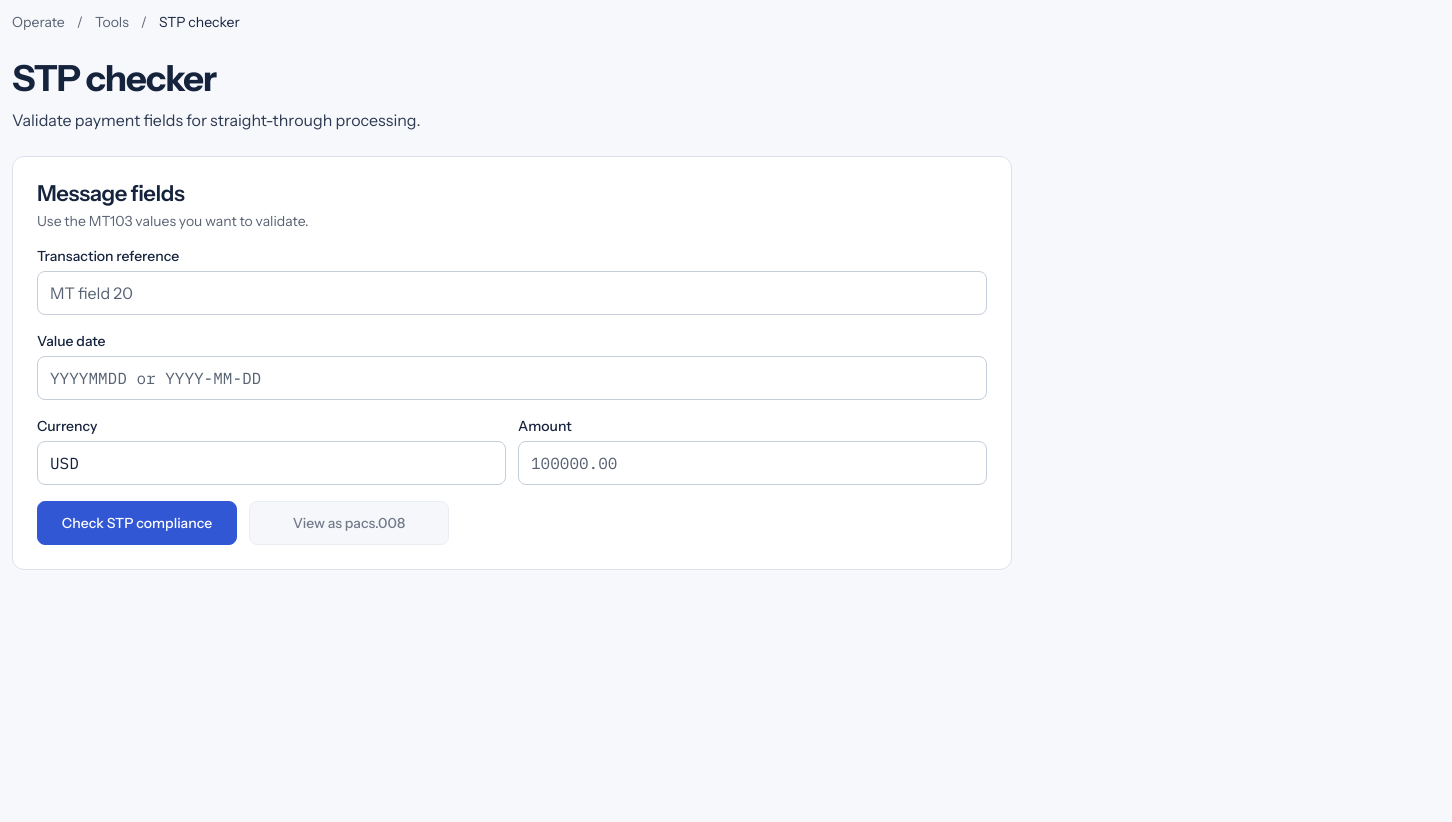
Scenario: StpPage › shows the pacs.008 view when toggled
This screenshot has width=1452, height=822.
Type "REF1" into the field labelled "Transaction reference". click: [512, 294]
box: [37,272,987,316]
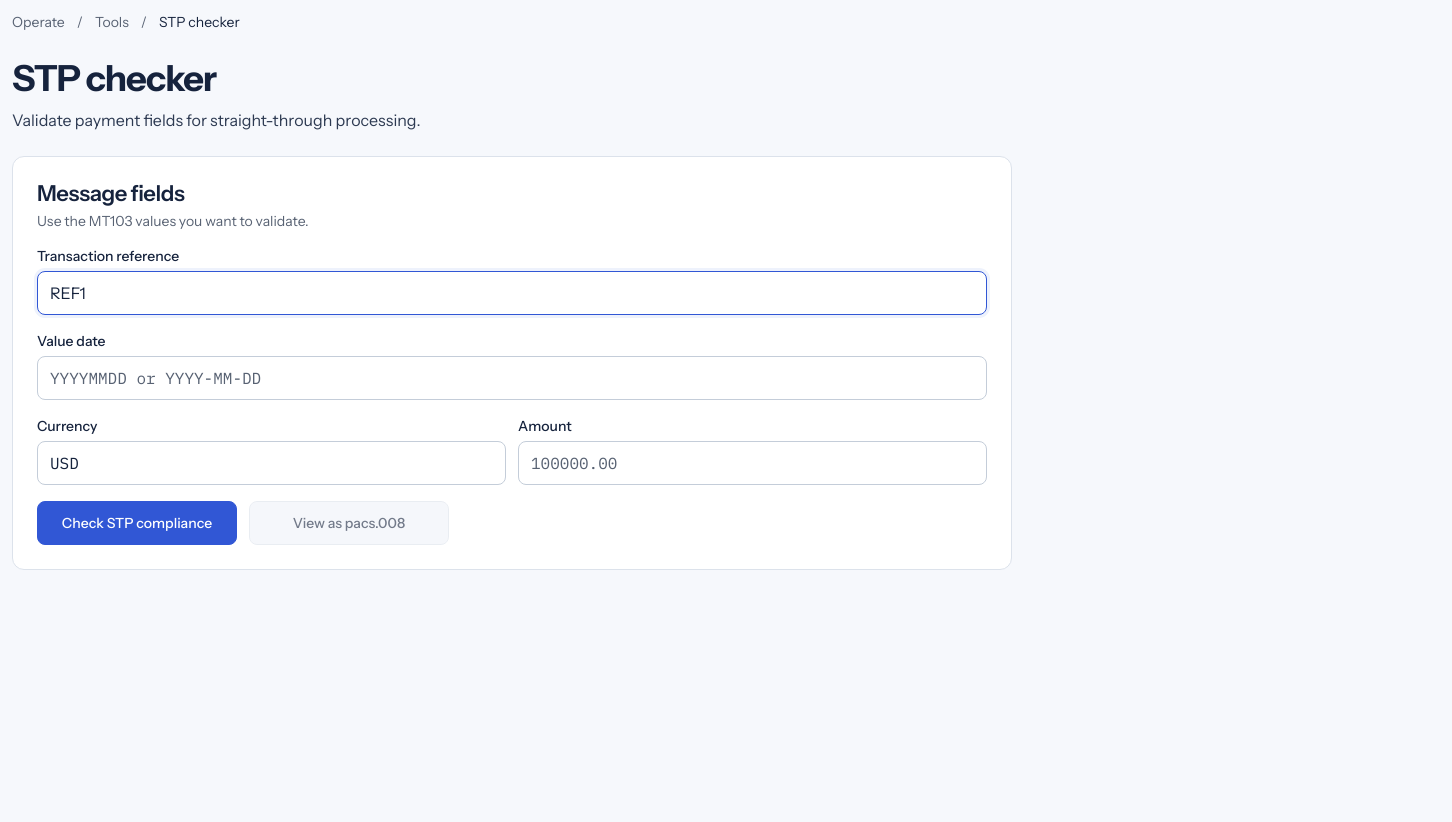
Type "2026-07-20" into the field labelled "Value date". click: [512, 378]
box: [37,356,987,400]
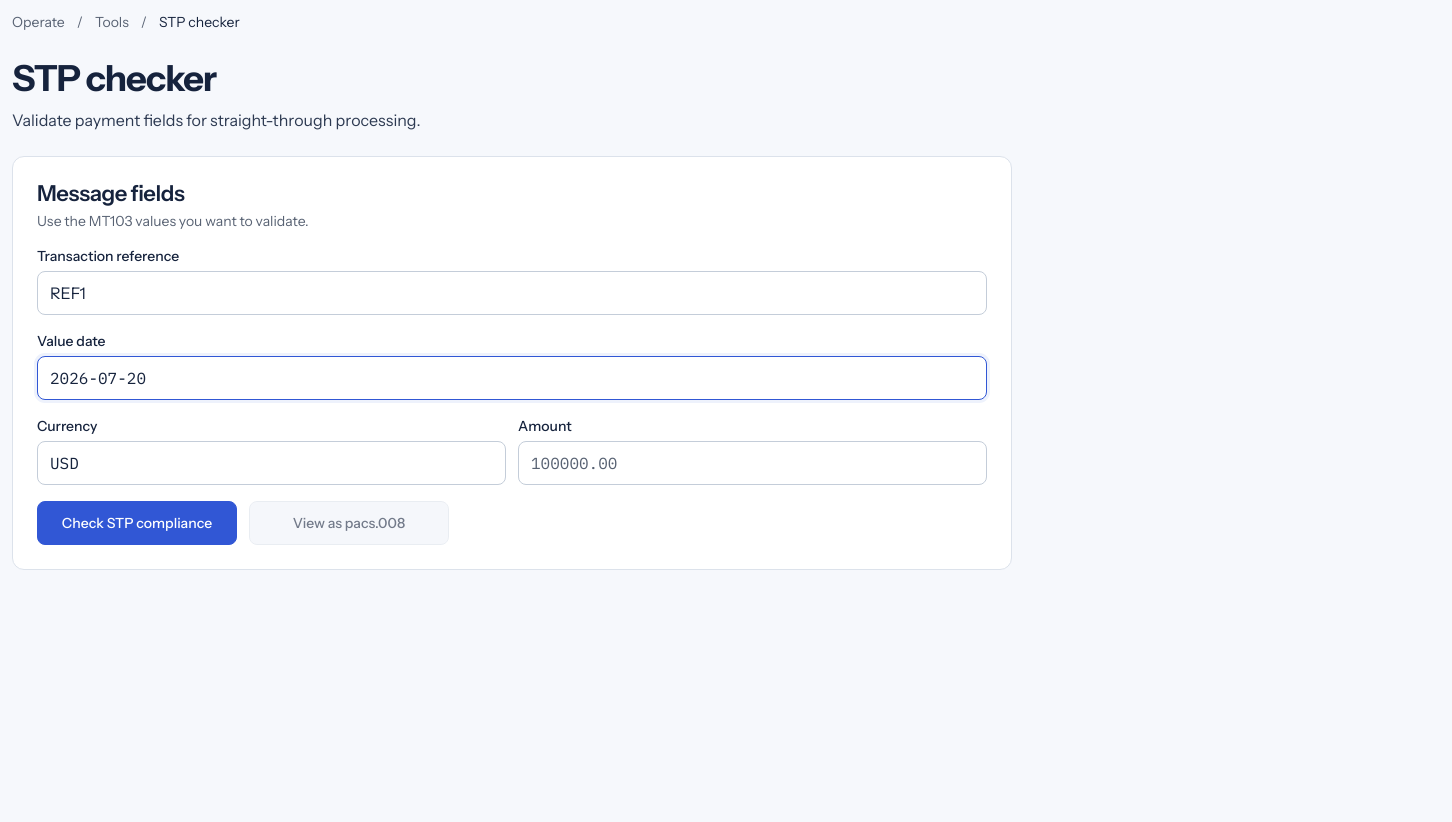
Type "100000" into the number field named "interbank amount". click: [752, 464]
box: [518,442,987,486]
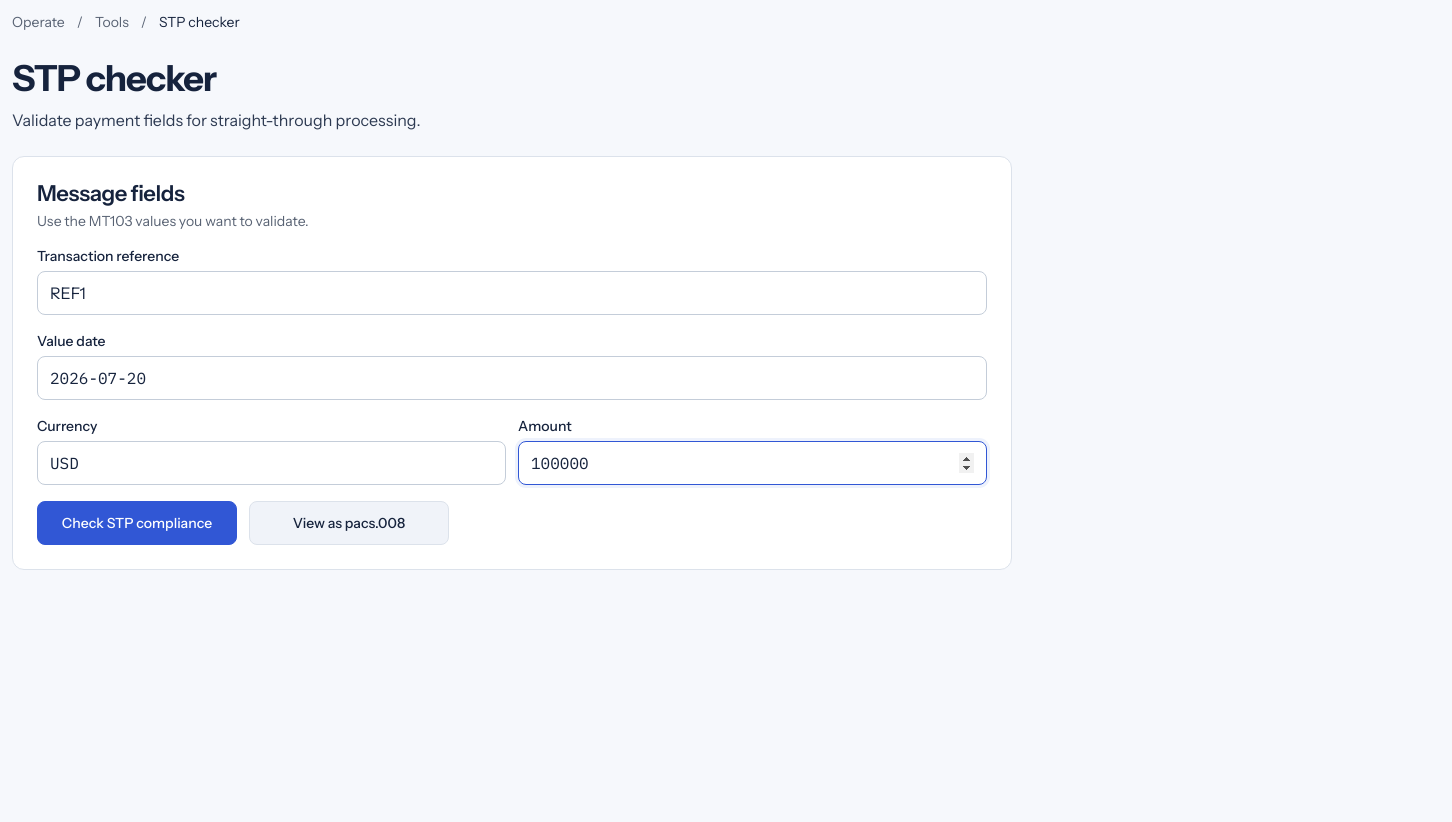
Click the button "View as pacs.008". click: [349, 524]
box: [249,502,449,546]
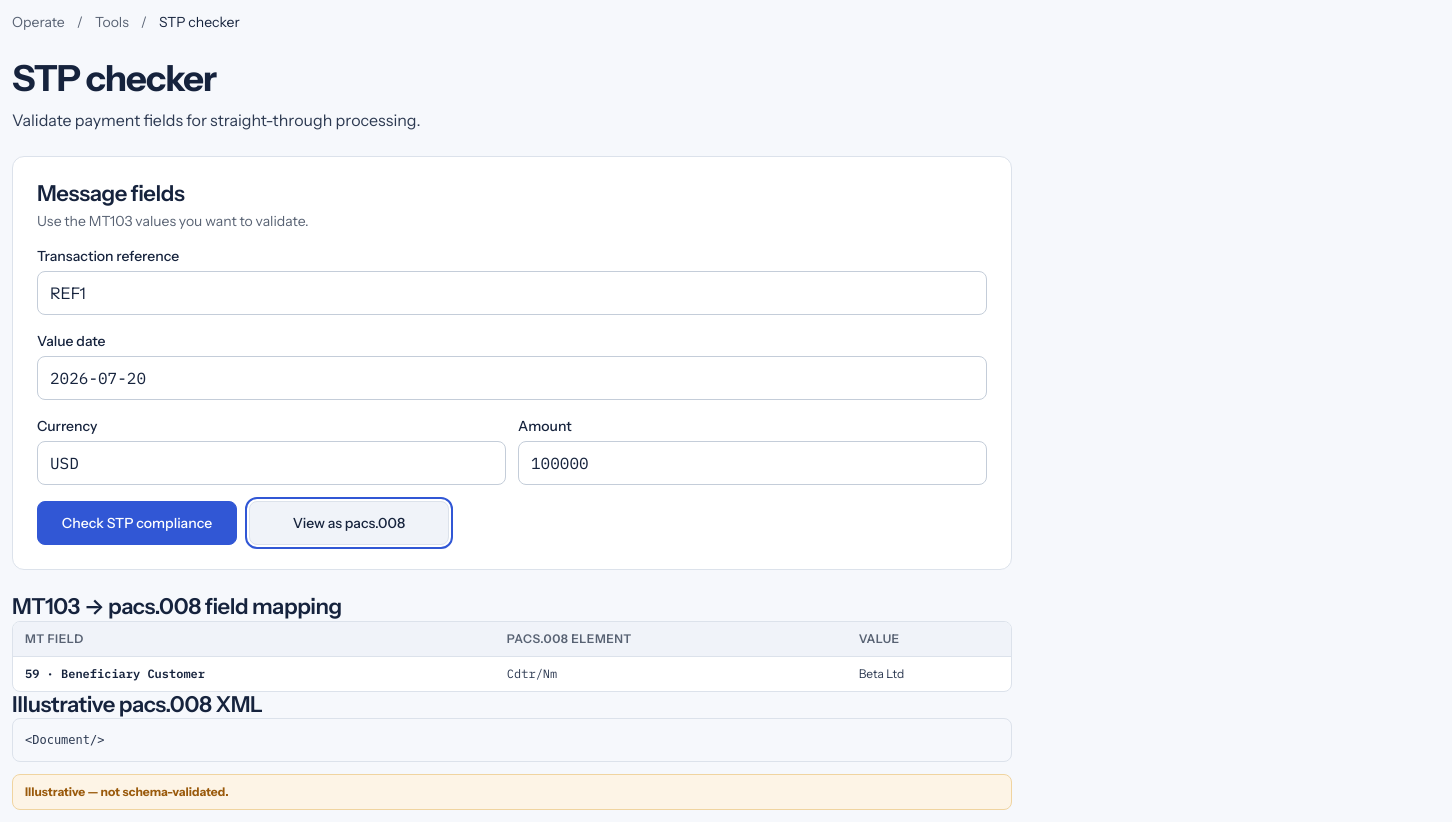
Expected: the heading "MT103 → pacs.008 field mapping" is shown, [12,594,342,620]
